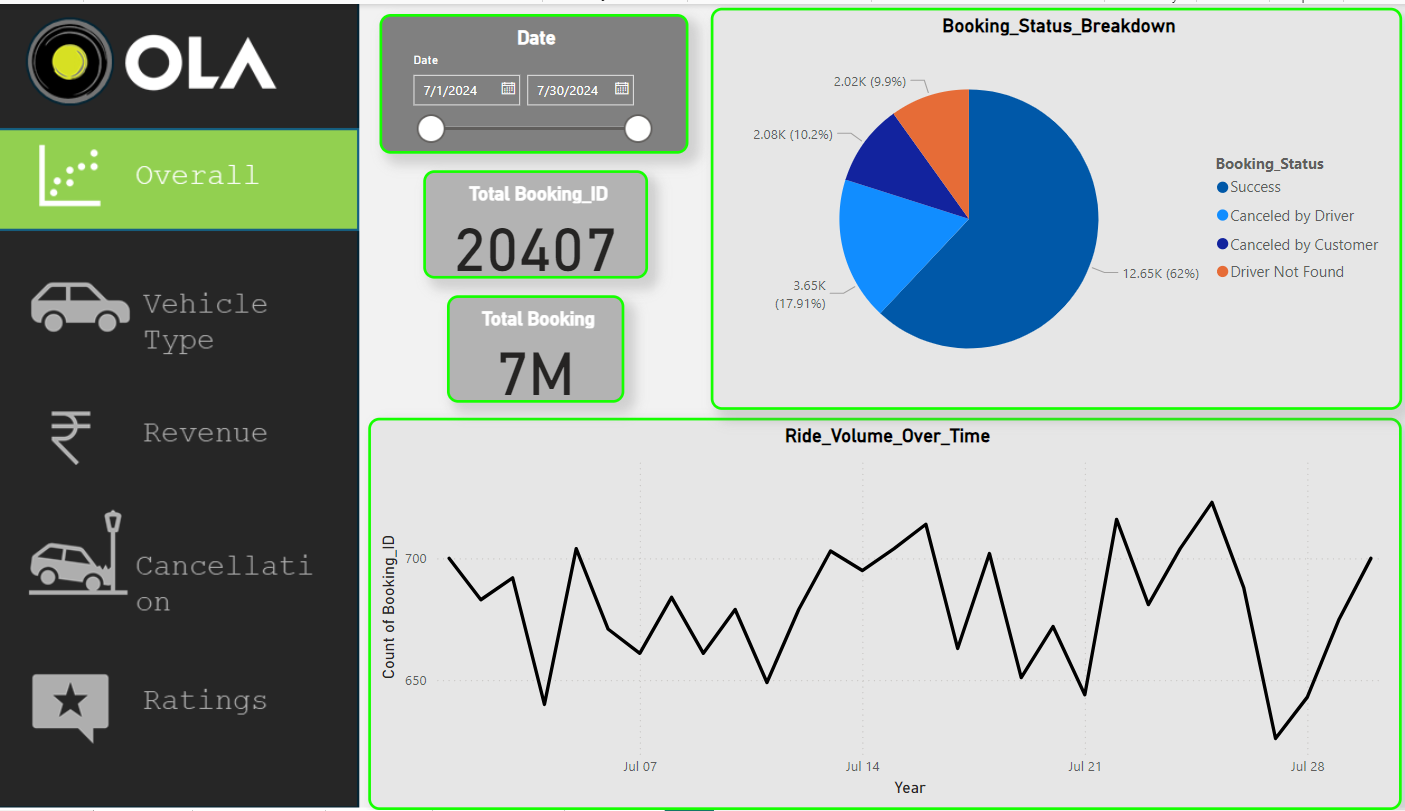

The page's visual inventory and layout, read from the dashboard file:
{"tool":"powerbi","page":{"name":"Overall","canvas":[1280,720],"ordinal":0},"visuals":[{"type":"lineChart","title":"Ride_Volume_Over_Time","fields":{"Y":["CountNonNull(Bookings_Cleaned.Booking_ID)"],"Category":["Bookings_Cleaned.Date.Variation.Date Hierarchy.Year","Bookings_Cleaned.Date.Variation.Date Hierarchy.Quarter","Bookings_Cleaned.Date.Variation.Date Hierarchy.Month","Bookings_Cleaned.Date.Variation.Date Hierarchy.Day"]},"box":[331.4,369.8,923.3,350],"z":0},{"type":"pieChart","title":"Booking_Status_Breakdown","fields":{"Category":["Bookings_Cleaned.Booking_Status"],"Y":["CountNonNull(Bookings_Cleaned.Booking_ID)"]},"box":[637.2,3.5,617.4,359.3],"z":1000},{"type":"slicer","title":"Date","fields":{"Values":["Bookings_Cleaned.Date"]},"box":[341.9,3.5,275.6,124.4],"z":2000},{"type":"card","title":"Total Booking_ID","fields":{"Values":["Count(Bookings_Cleaned.Booking_ID)"]},"box":[380.2,148.8,201.2,96.5],"z":3000},{"type":"card","title":"Total Booking","fields":{"Values":["Sum(Bookings_Cleaned.Booking_Value)"]},"box":[402.2,260.6,158.6,96.3],"z":4000}]}

Visuals, with their boxes in screenshot pixels (x1, y1, x2, y2), scaled from the page's 1280x720 canvas onto the 1405x811 screenshot:
"Ride_Volume_Over_Time" lineChart: 364:417:1377:810
"Booking_Status_Breakdown" pieChart: 699:4:1377:409
"Date" slicer: 375:4:678:144
"Total Booking_ID" card: 417:168:638:276
"Total Booking" card: 441:294:616:402
